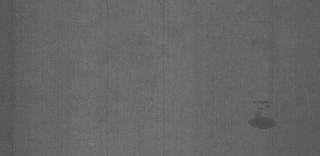oil spot: (245, 102, 283, 134)
